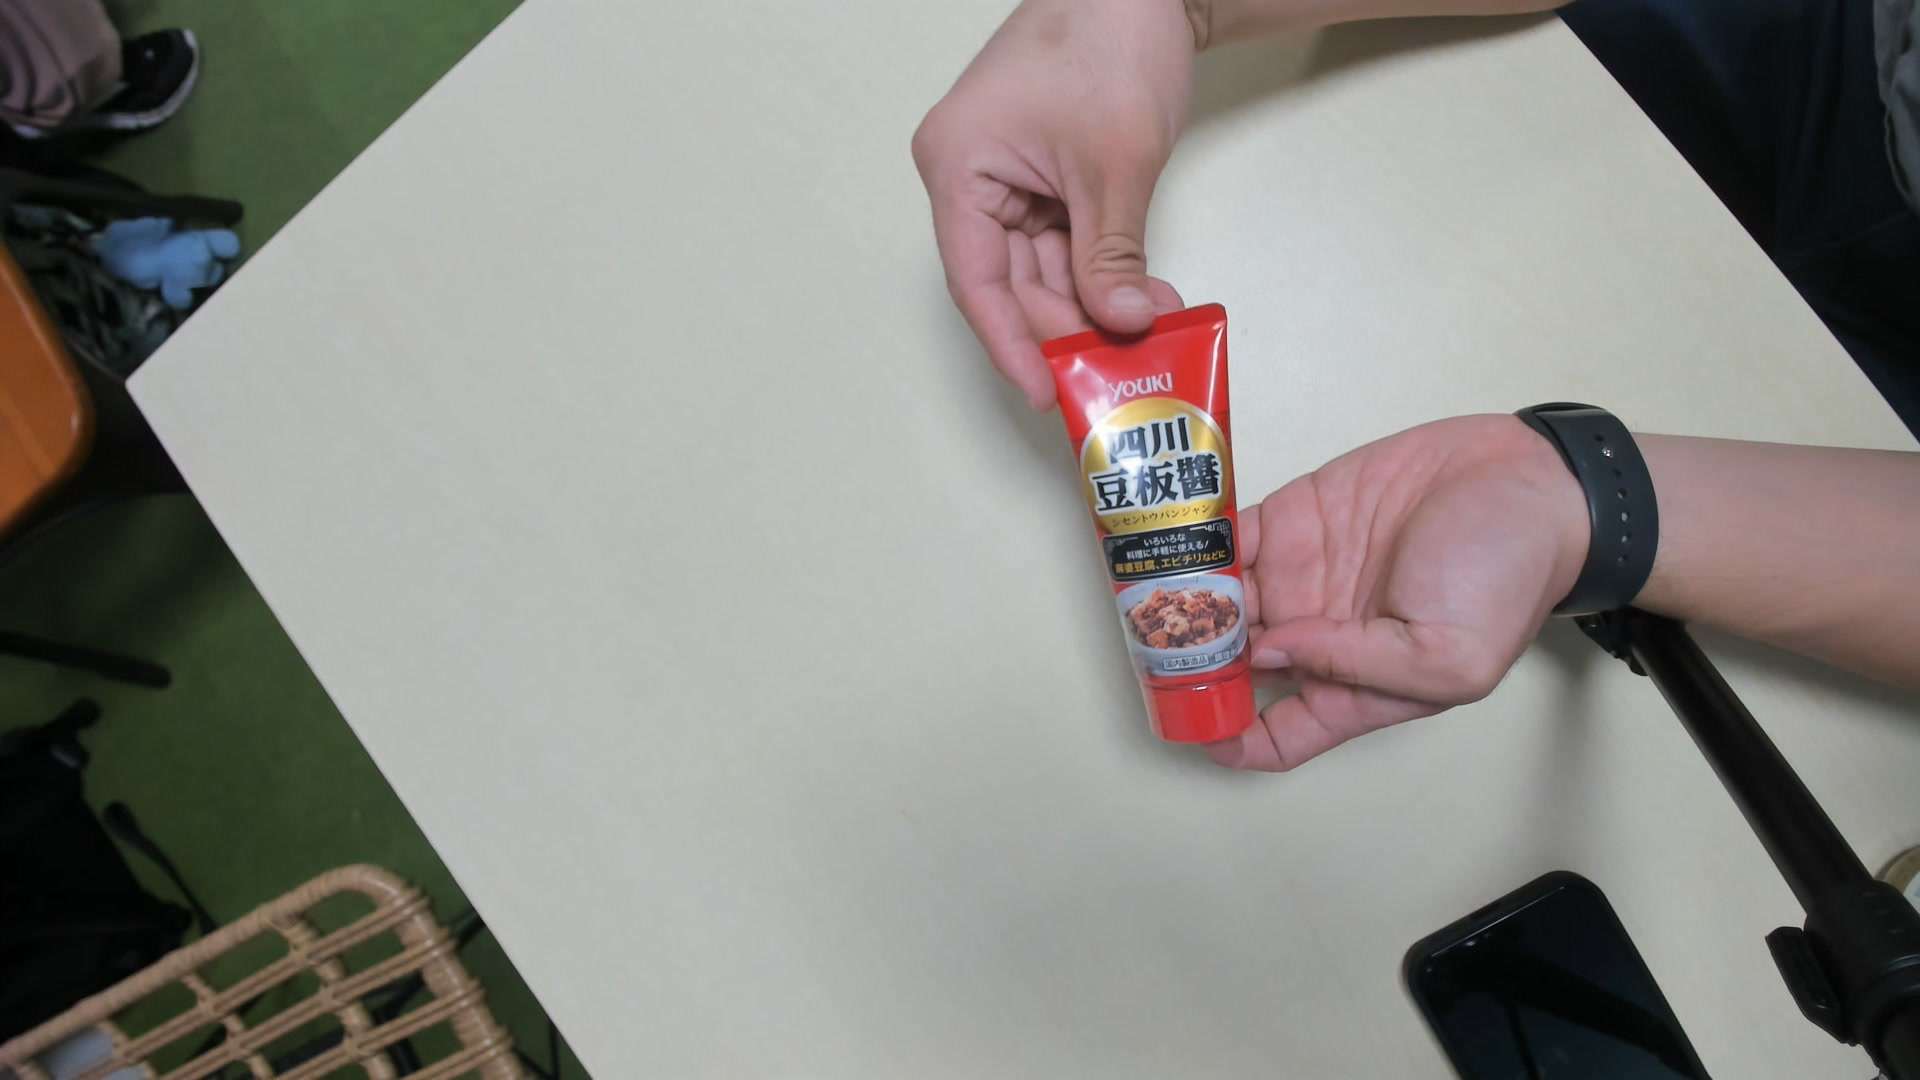OtherSauceDressing_100-199g_NonHalal_NonHealthy: (1044, 305, 1254, 758)
